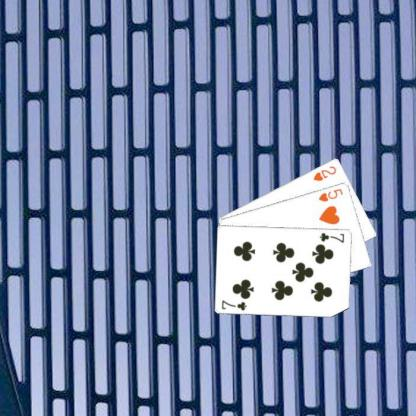2H: (310, 163, 338, 182)
5H: (316, 186, 344, 202)
7C: (219, 297, 248, 312), (317, 230, 346, 244)
